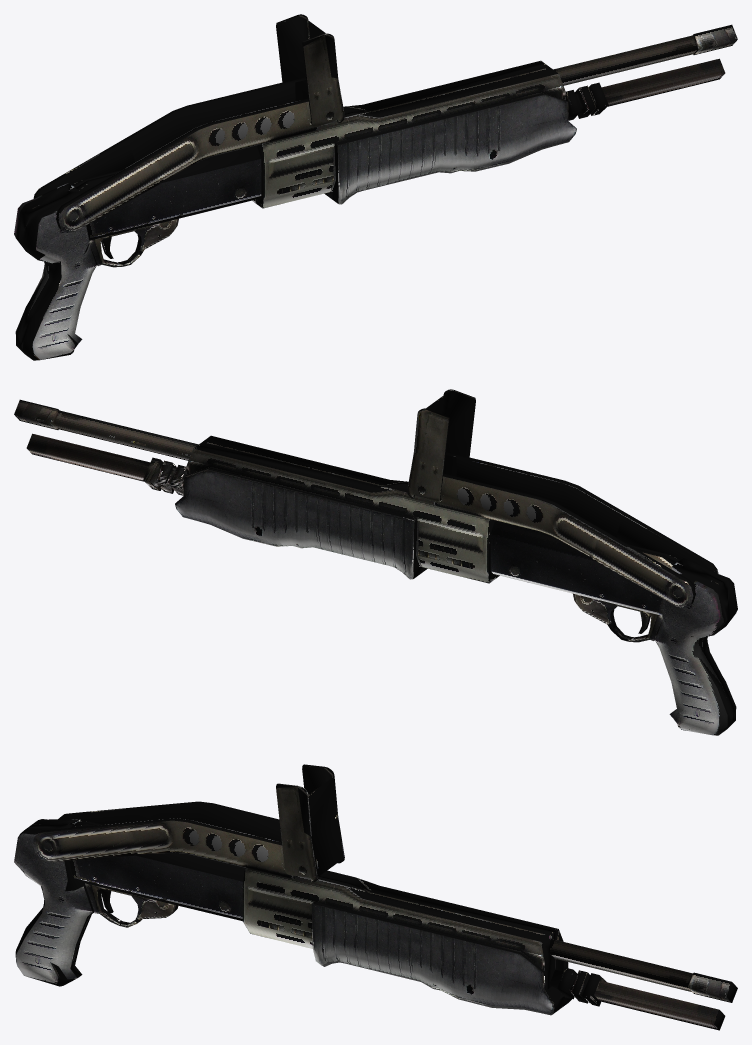
Rendered from spas12.glb.
3 renders of one model, top to bottom at view 1: azimuth 30°, elevation 25°; view 2: azimuth 150°, elevation 25°; view 3: azimuth 330°, elevation 25°, orthographic.
Visible parts, largest first — view 1: sps; view 2: sps; view 3: sps.
Boxes of the visible parts, left/top/right/bottom form: sps: left=14, top=14, right=737, bottom=360; sps: left=14, top=389, right=737, bottom=735; sps: left=14, top=764, right=737, bottom=1030.
Bounding box in the file's own units: 2 × 0.7169 × 0.1329.
Materials: 1 (1 with a texture image).
